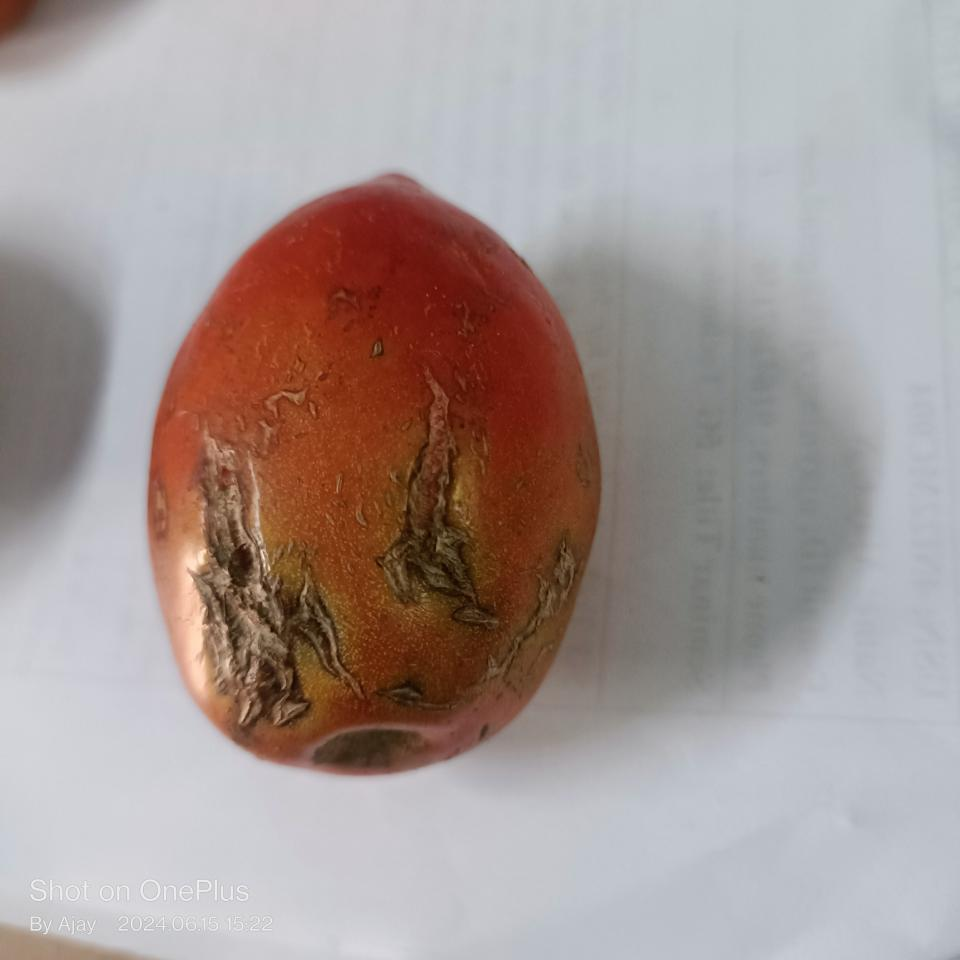Cracking: (189, 446, 368, 741), (371, 351, 504, 641)
